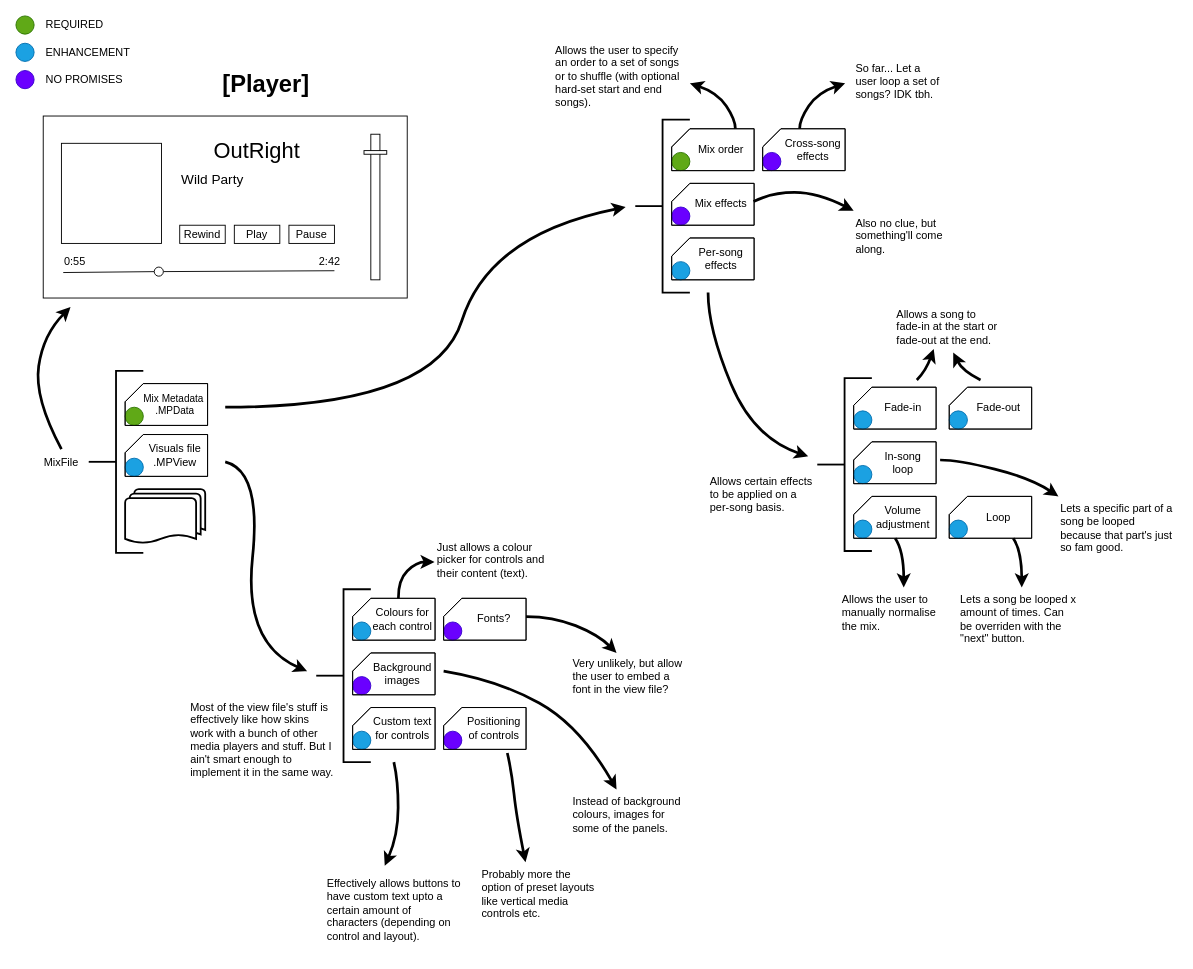
The diagram is 1193 pixels wide and 969 high, and some of its shapes have lost their labels. Each missing label, with the centre of its shape:
*bike*: pixel 111 192
songs: pixel 165 516
